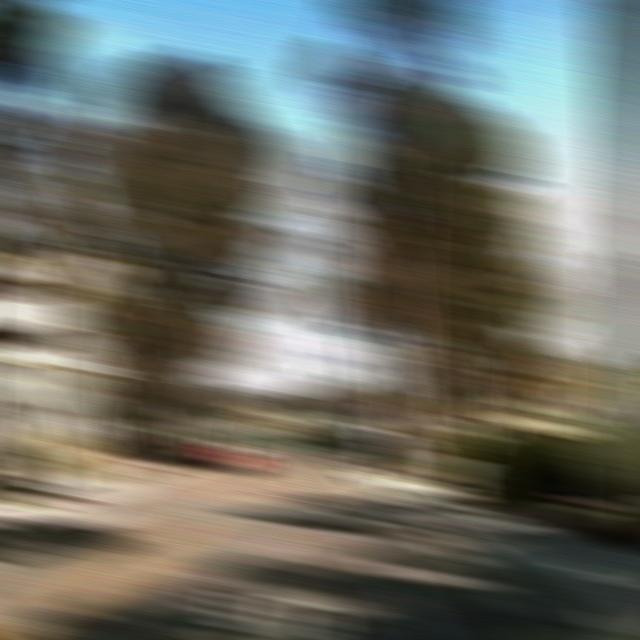pedestrianCrossing: (528, 351, 580, 414)
